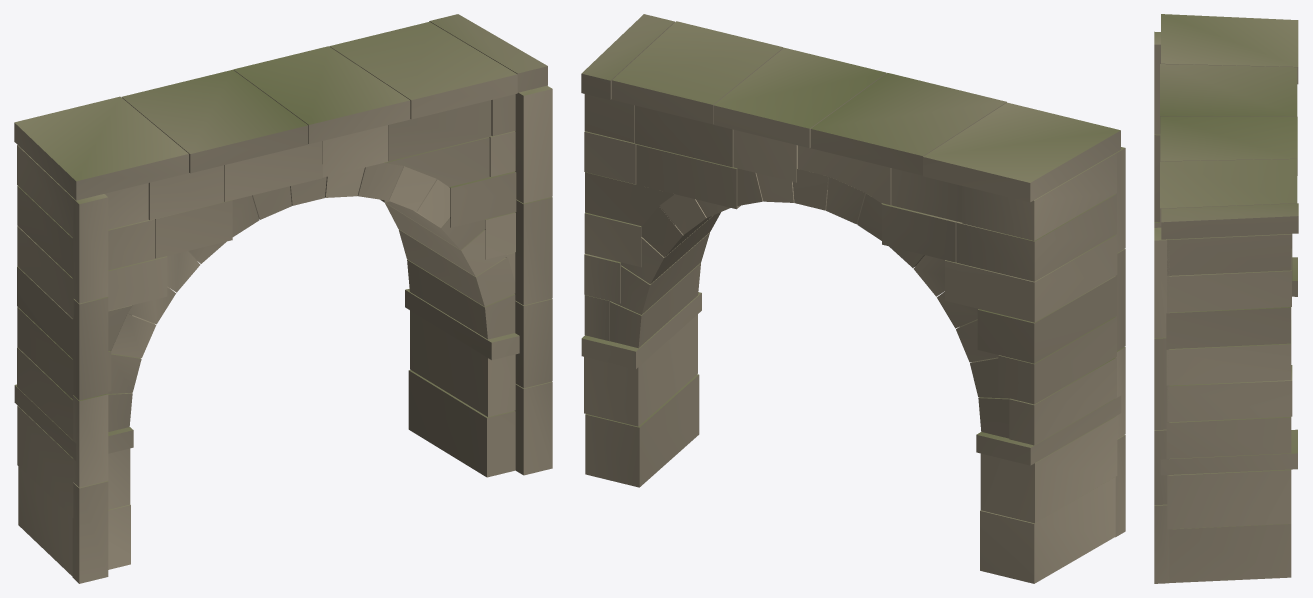
The model's file is arena_upper_mid.glb.
3 views of the same model, side by side, from view 1: azimuth 30°, elevation 25°; view 2: azimuth 150°, elevation 25°; view 3: azimuth 270°, elevation 25° (orthographic). The views are drawn at different scales.
Visible parts, largest first — view 1: arena_upper_mid; view 2: arena_upper_mid; view 3: arena_upper_mid.
Boxes of the visible parts, left/top/right/bottom form: arena_upper_mid: left=14, top=14, right=552, bottom=583; arena_upper_mid: left=581, top=14, right=1125, bottom=583; arena_upper_mid: left=1154, top=14, right=1298, bottom=583.
Bounding box in the file's own units: 19.8 × 15.97 × 5.78.
